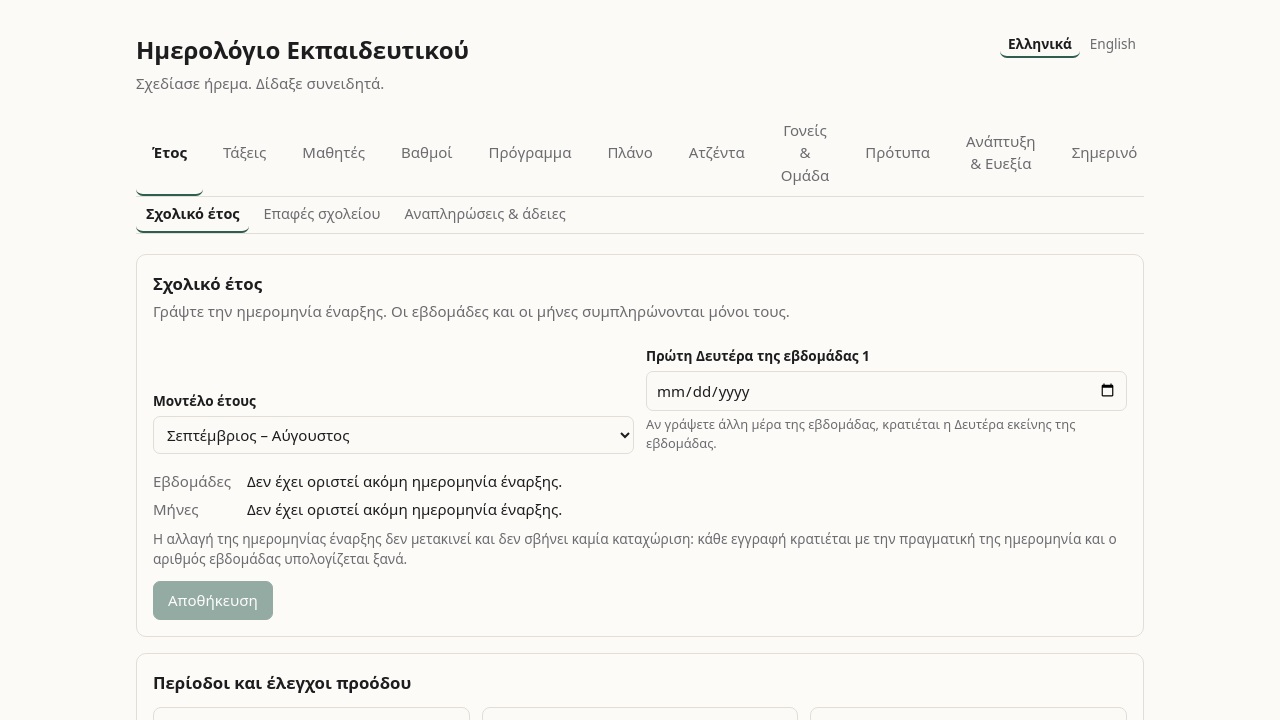
Test: the app shell › blocks editing and offers a reload when the file changed on disk
expect the heading "Σχολικό έτος" is shown: met, box [153, 272, 262, 295]
Type "2026-09-14" into the date field labelled "Πρώτη Δευτέρα της εβδομάδας 1" at (886, 391), box [646, 371, 1127, 411]
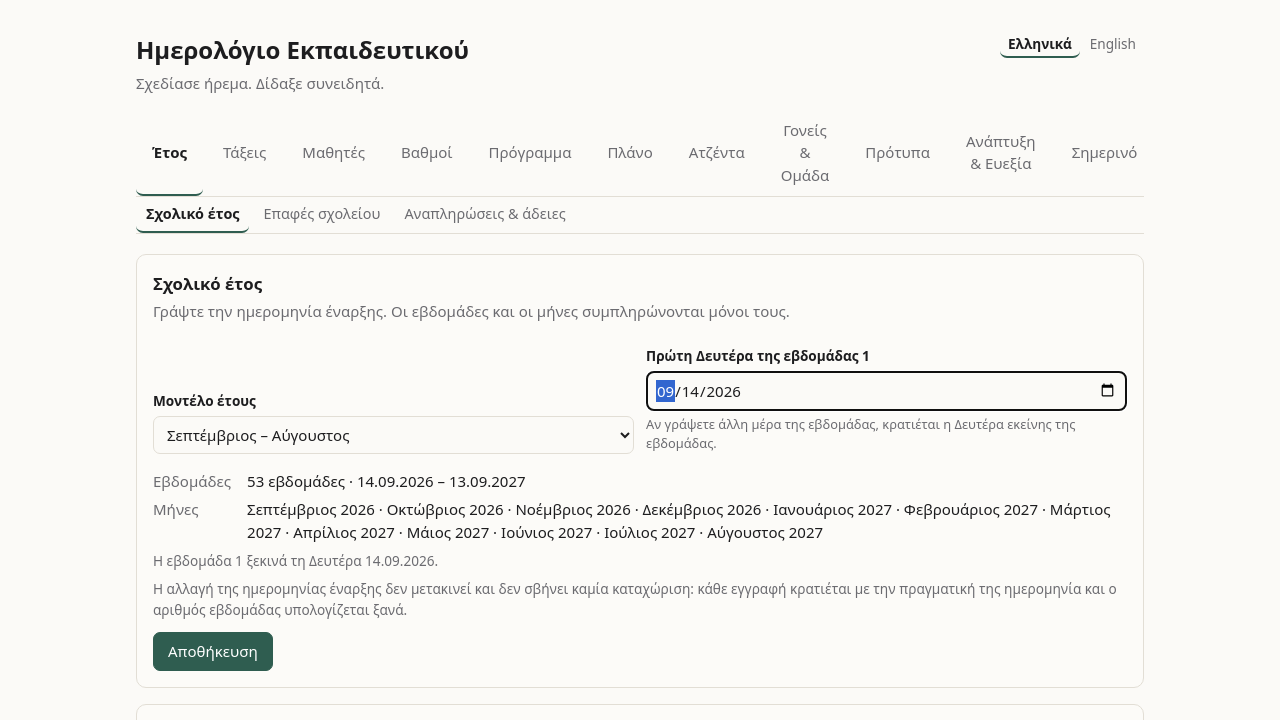
Click the button "Αποθήκευση" at (213, 651), box [153, 632, 273, 671]
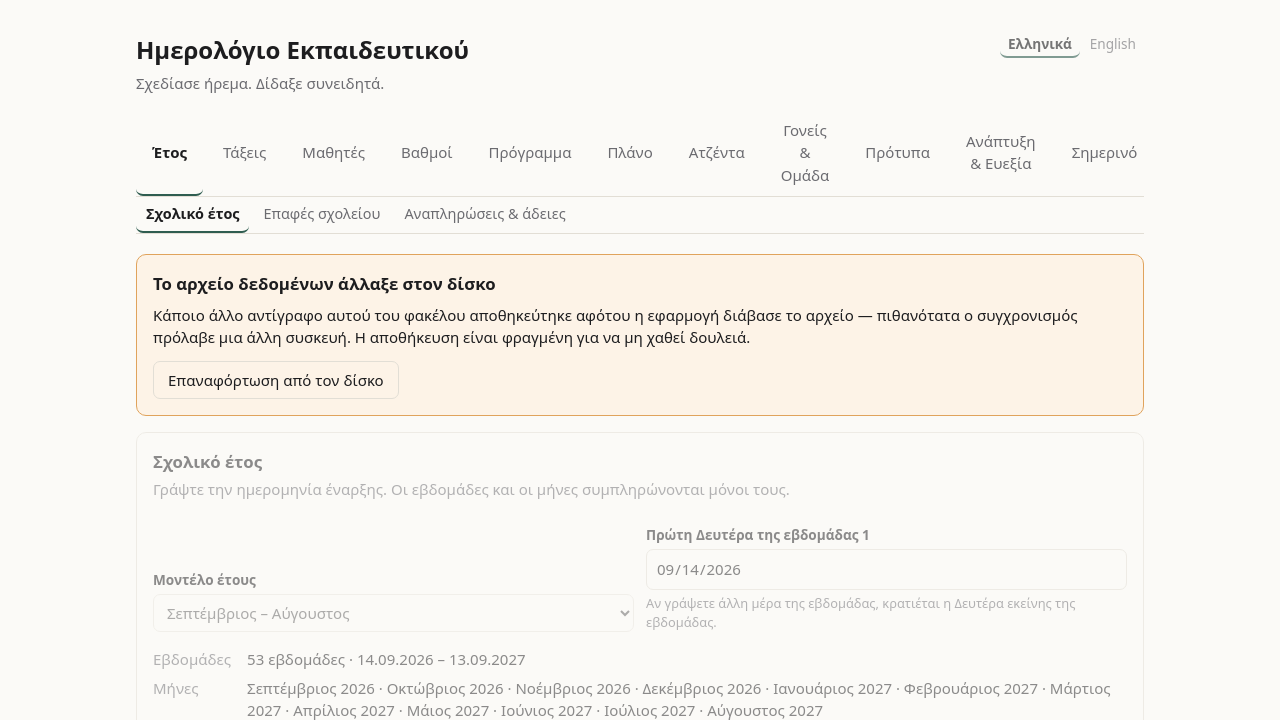
expect the date field labelled "Πρώτη Δευτέρα της εβδομάδας 1" is disabled: met, box [646, 549, 1127, 590]
expect the message shows "Το αρχείο δεδομένων άλλαξε στον δίσκο": met, box [153, 272, 496, 295]
Click the button "Επαναφόρτωση από τον δίσκο" at (276, 380), box [153, 361, 399, 399]
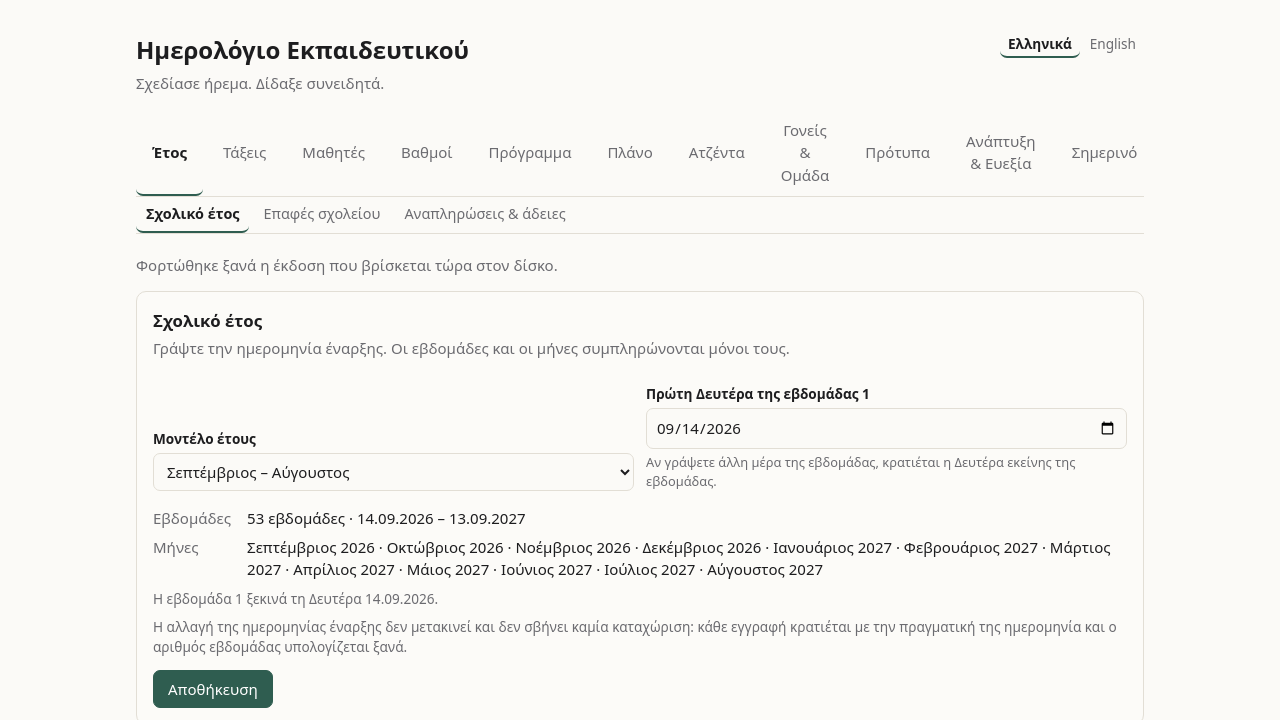
expect the date field labelled "Πρώτη Δευτέρα της εβδομάδας 1" is enabled: met, box [646, 408, 1127, 449]
expect the message is gone: met
